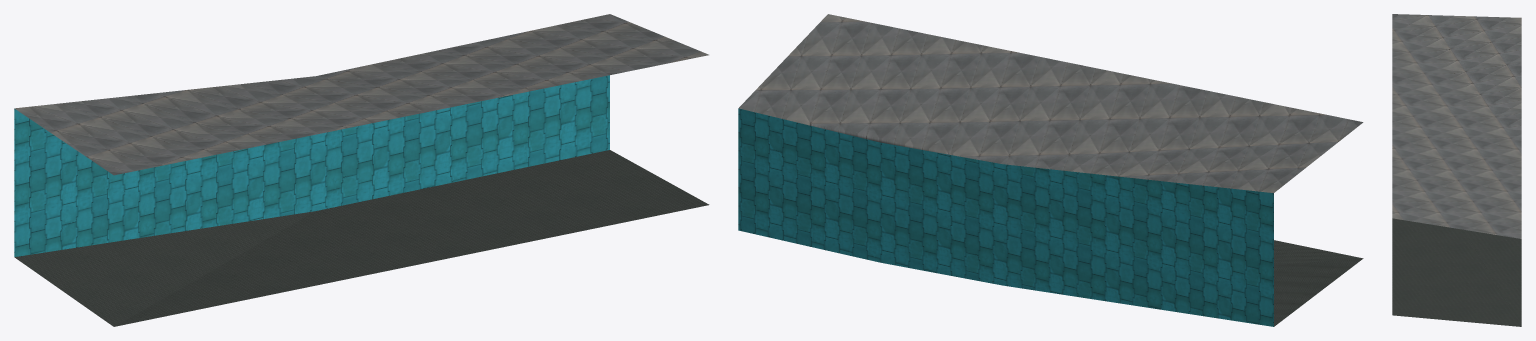
Rendered from east_long_newpart2.FBX.
3 views of the same model, side by side, from view 1: azimuth 30°, elevation 25°; view 2: azimuth 150°, elevation 25°; view 3: azimuth 270°, elevation 25° (orthographic). The views are drawn at different scales.
Parts seen in each view (by area): view 1: Object006; view 2: Object006; view 3: Object006.
Part boxes in pixels (x1=…): Object006: x1=14, y1=14, x2=709, y2=326; Object006: x1=738, y1=14, x2=1363, y2=326; Object006: x1=1392, y1=14, x2=1521, y2=326.
Bounding box in the file's own units: 305 × 94.31 × 88.44.
